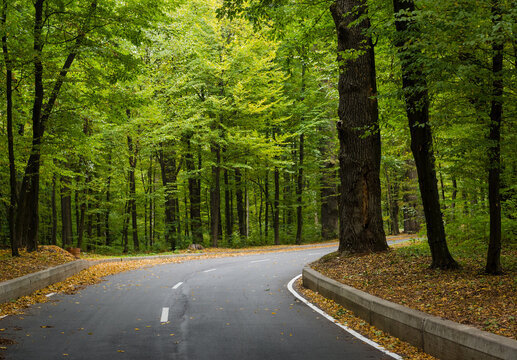rightTrun: (62, 211, 315, 360)
